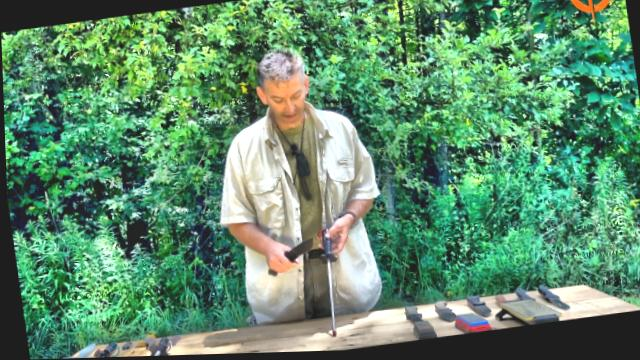knife: (261, 237, 318, 279)
